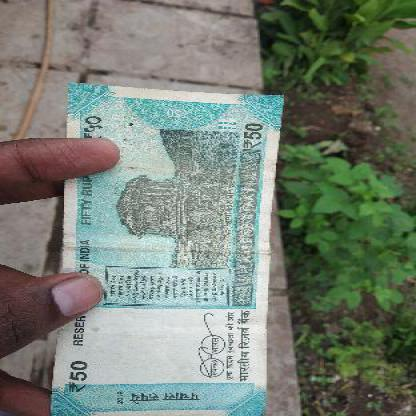New50Back: (61, 85, 278, 415)
